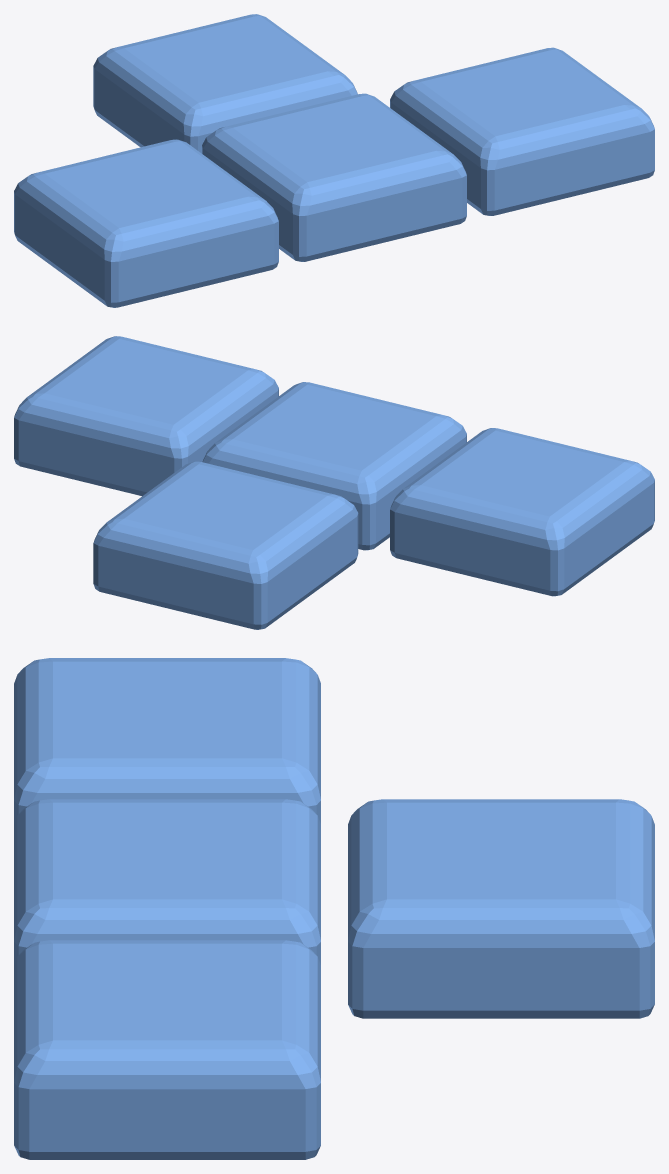
Rendered from KO_Tetris_5.fbx.
3 renders of one model, top to bottom at view 1: azimuth 30°, elevation 25°; view 2: azimuth 150°, elevation 25°; view 3: azimuth 270°, elevation 25°, orthographic. The views are drawn at different scales.
Visible parts, largest first — view 1: Tetris_T; view 2: Tetris_T; view 3: Tetris_T.
Part boxes in pixels (x1,y1,x2,y2): Tetris_T: (14,14,654,307); Tetris_T: (14,336,654,629); Tetris_T: (14,658,654,1159).
Size of the model in its own units: 292 by 36 by 192.
